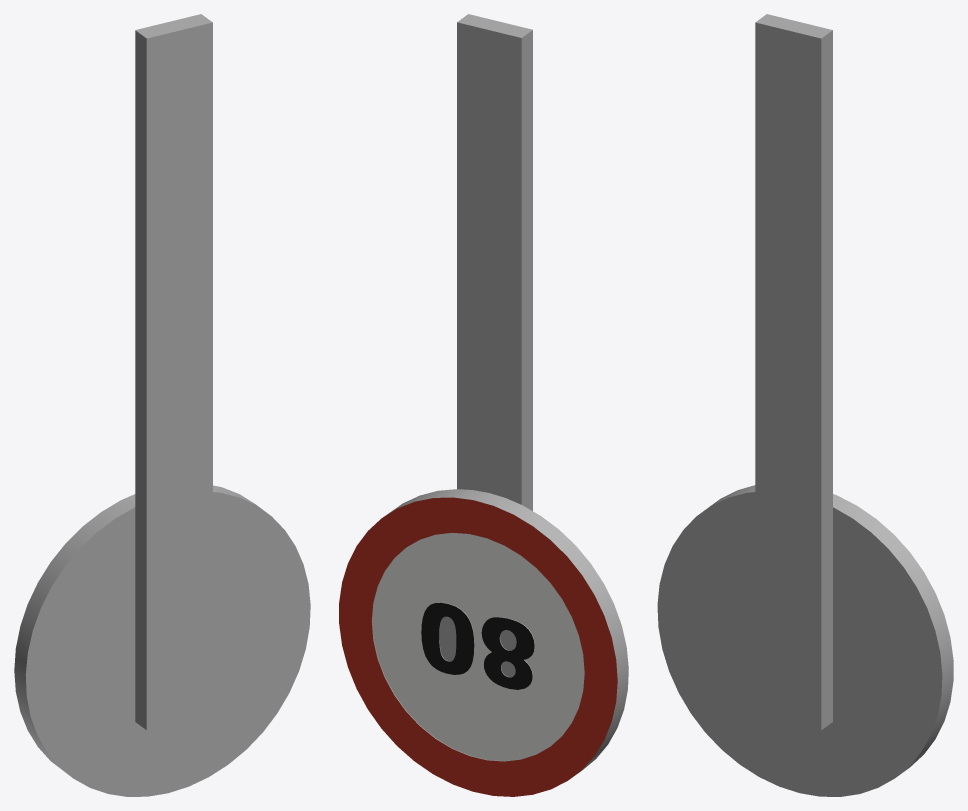
The picture shows the model from 3 angles, left to right: view 1: azimuth 30°, elevation 25°; view 2: azimuth 150°, elevation 25°; view 3: azimuth 330°, elevation 25°; orthographic projection. The views are drawn at different scales.
Visible parts, largest first — view 1: Body1_Paint - Enamel Glossy (Grey); view 2: Body1_Paint - Enamel Glossy (Grey), Body1_Paint - Enamel Glossy (White), Body1_Paint - Enamel Glossy (Red), Body1_Paint - Enamel Glossy (Black); view 3: Body1_Paint - Enamel Glossy (Grey).
Boxes of the visible parts, x1,y1,x2,y2 form: Body1_Paint - Enamel Glossy (Grey): [14, 14, 310, 796]; Body1_Paint - Enamel Glossy (Grey): [371, 14, 628, 777]; Body1_Paint - Enamel Glossy (White): [372, 533, 584, 761]; Body1_Paint - Enamel Glossy (Red): [339, 497, 617, 796]; Body1_Paint - Enamel Glossy (Black): [421, 602, 534, 689]; Body1_Paint - Enamel Glossy (Grey): [657, 14, 953, 796].
Bounding box in the file's own units: 0.2155 × 0.5574 × 0.0301.
